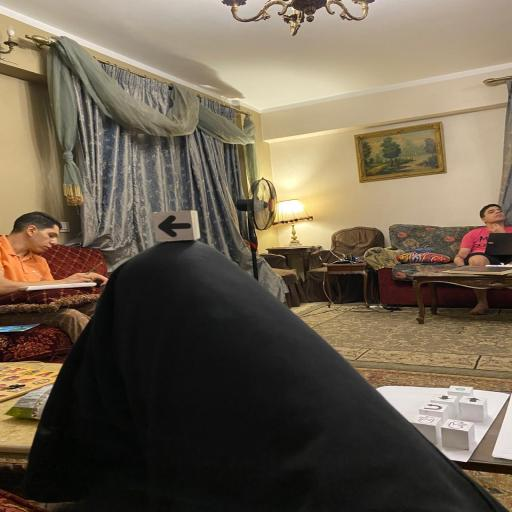Back: (151, 210, 199, 242)
